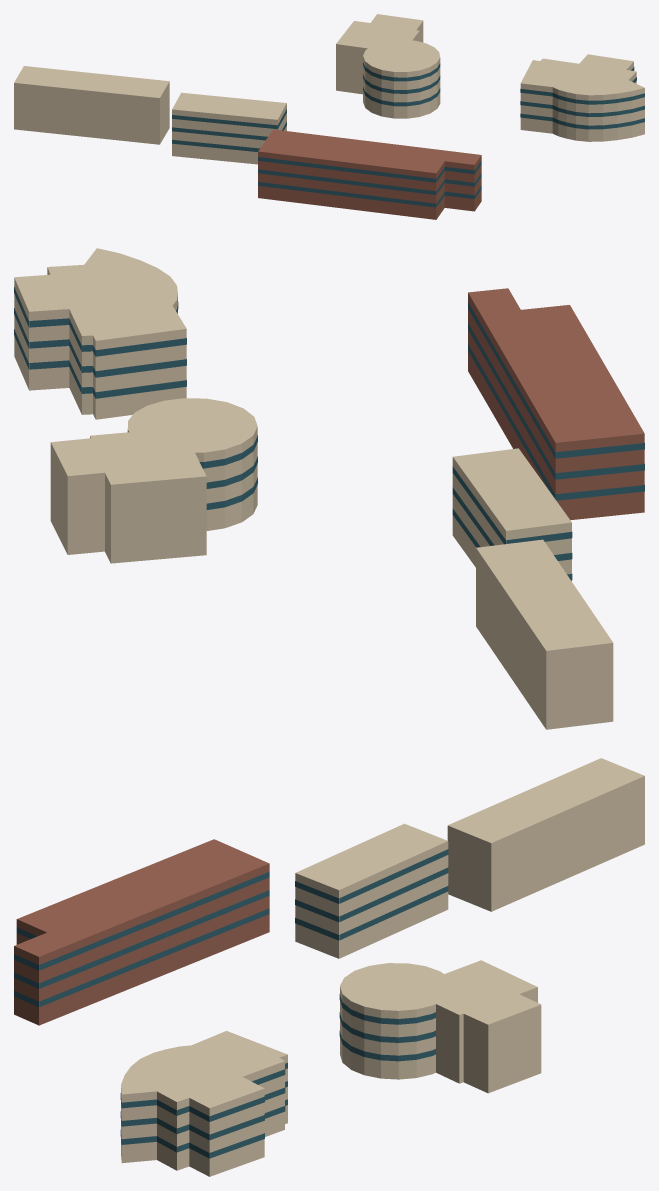
Rendered from city_3_-4.glb.
The picture shows the model from 3 angles, top to bottom: view 1: azimuth 30°, elevation 25°; view 2: azimuth 150°, elevation 25°; view 3: azimuth 270°, elevation 25°; orthographic projection. The views are drawn at different scales.
Visible parts, largest first — view 1: city_3_-4; view 2: city_3_-4; view 3: city_3_-4.
Part boxes in pixels (x1,y1,x2,y2): city_3_-4: [14, 14, 644, 219]; city_3_-4: [14, 248, 644, 729]; city_3_-4: [14, 758, 644, 1176].
Bounding box in the file's own units: 164 × 15 × 125.
